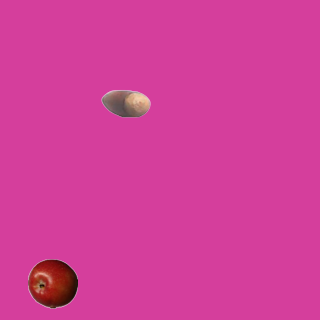Apple Braeburn: (27, 258, 77, 308)
Hazelnut: (100, 78, 150, 128)
